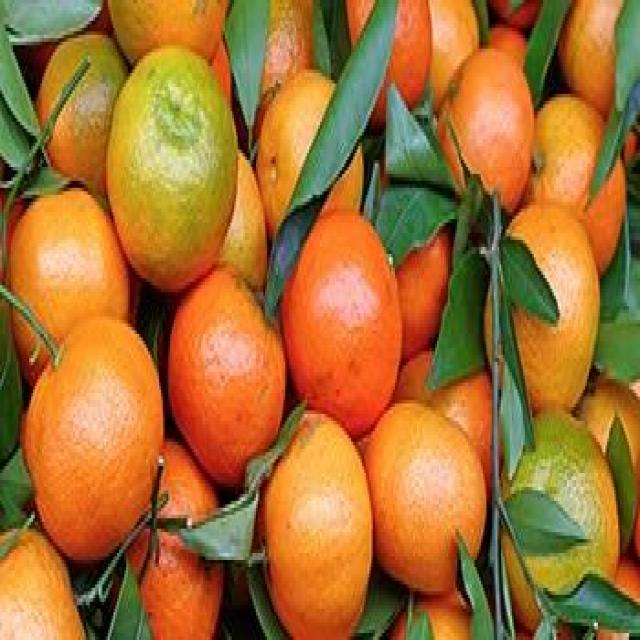10_tangerine: (27, 299, 166, 557), (105, 44, 244, 282), (497, 408, 624, 632), (167, 257, 287, 486), (257, 407, 374, 640), (286, 206, 403, 438), (487, 201, 607, 415), (11, 184, 136, 387), (367, 391, 490, 594), (253, 66, 370, 237), (436, 47, 532, 216), (533, 103, 627, 275), (0, 521, 103, 640)
